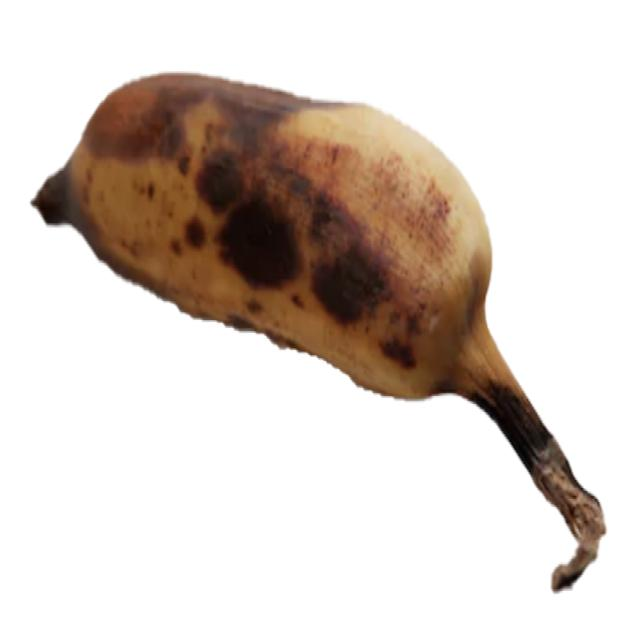rotten-banana: (29, 68, 606, 591)
